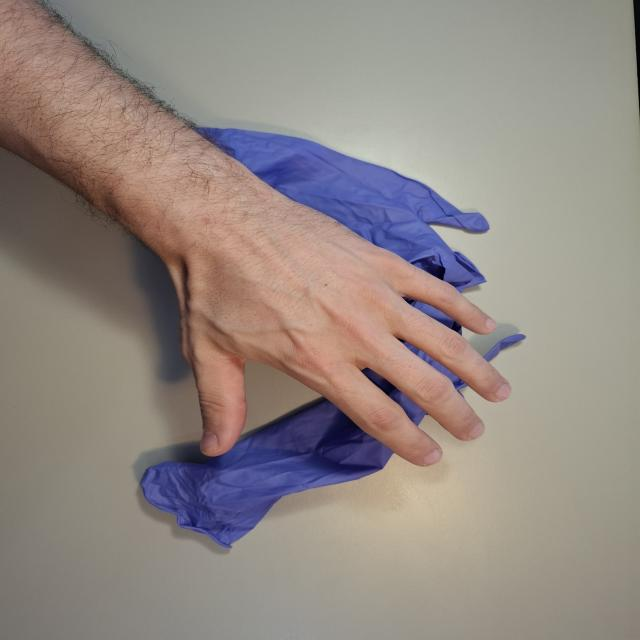glove_off: (162, 186, 516, 466)
